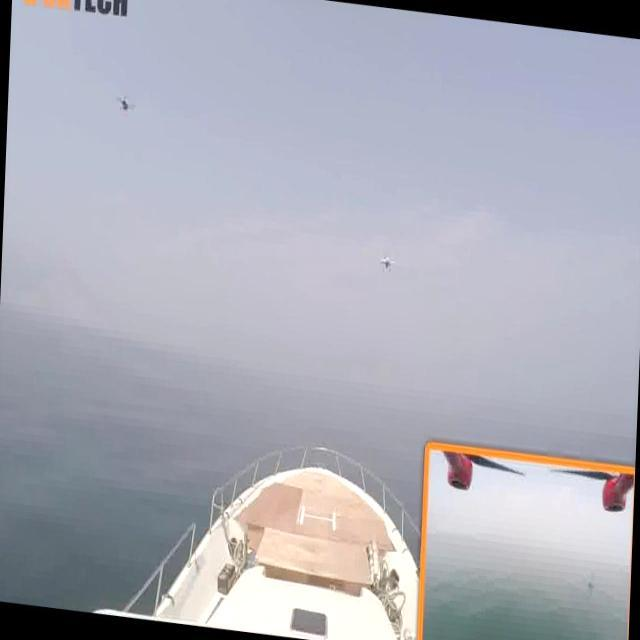drone: (110, 89, 138, 118), (377, 247, 399, 279)
